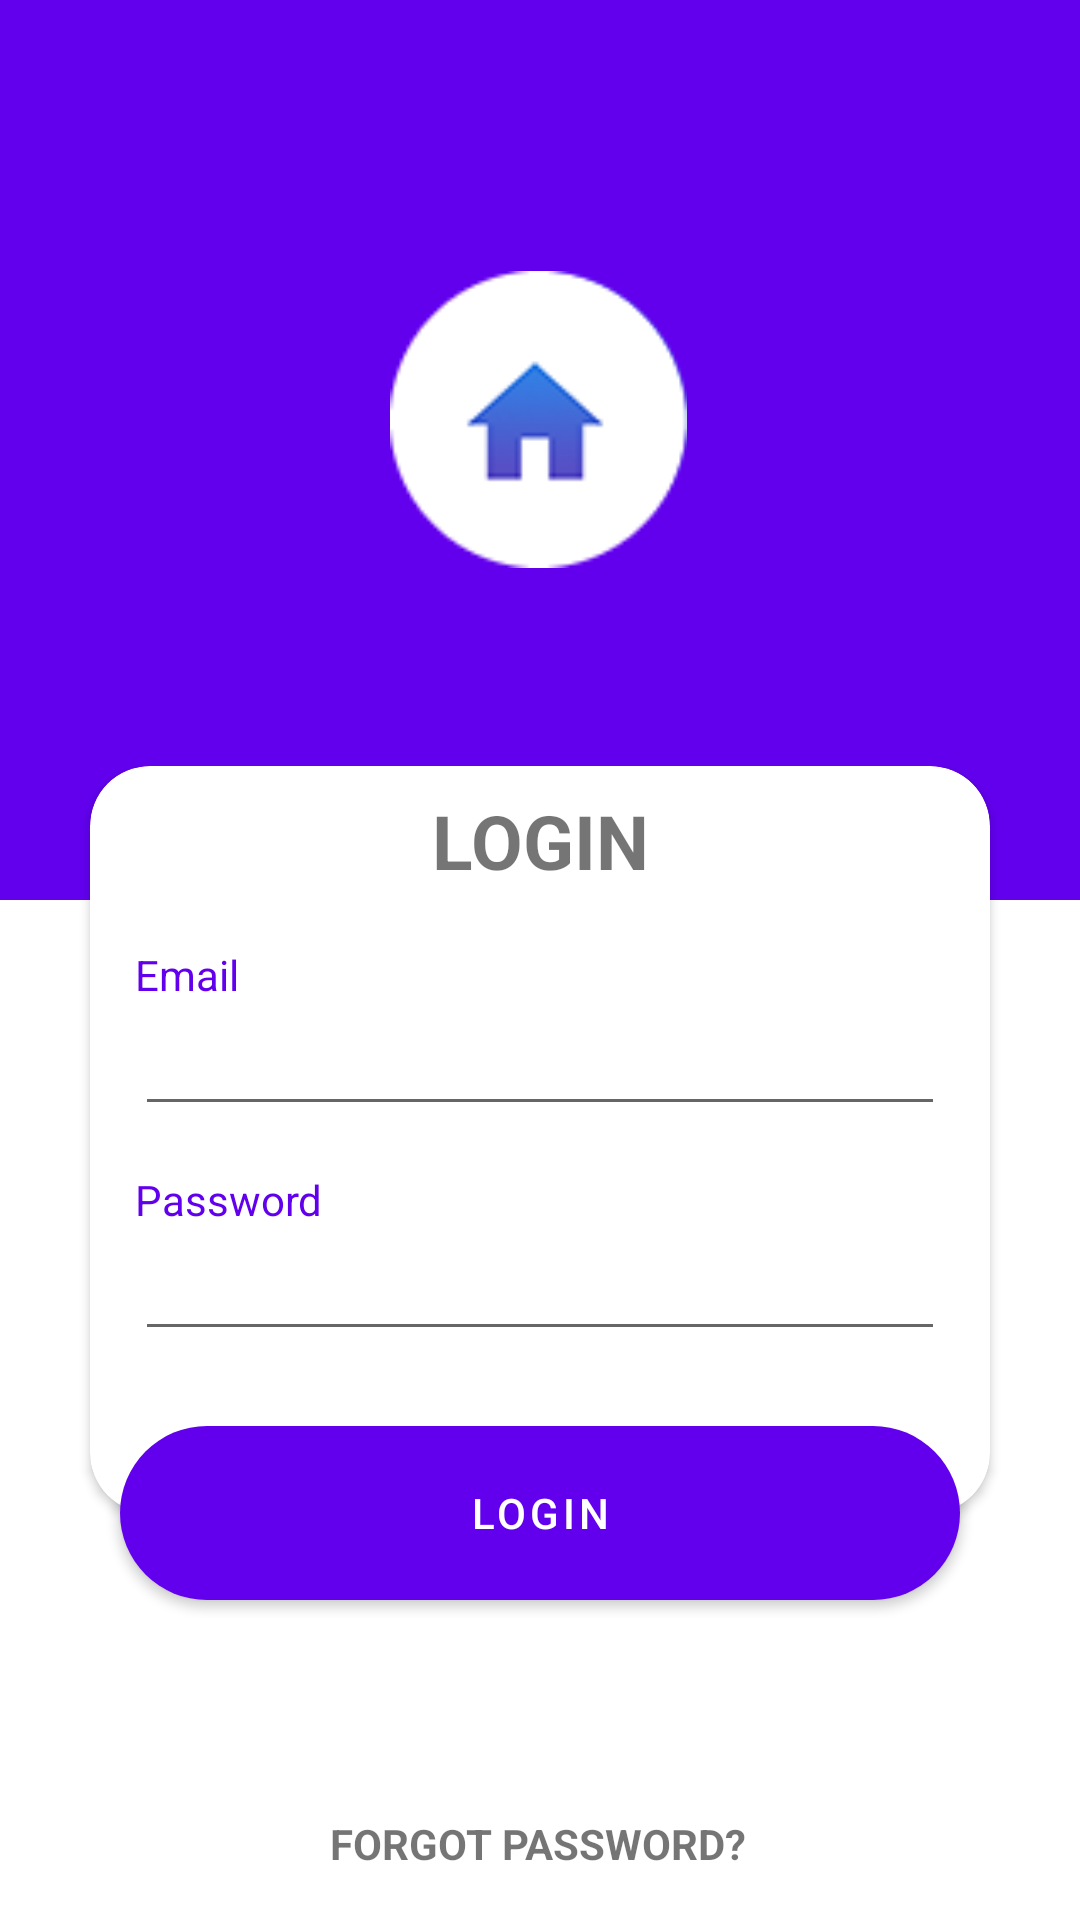

Screen size 1080x1920. Icon name, then its box in pixels as (x1, y1, x2, y2):
home: (390, 271, 687, 568)
